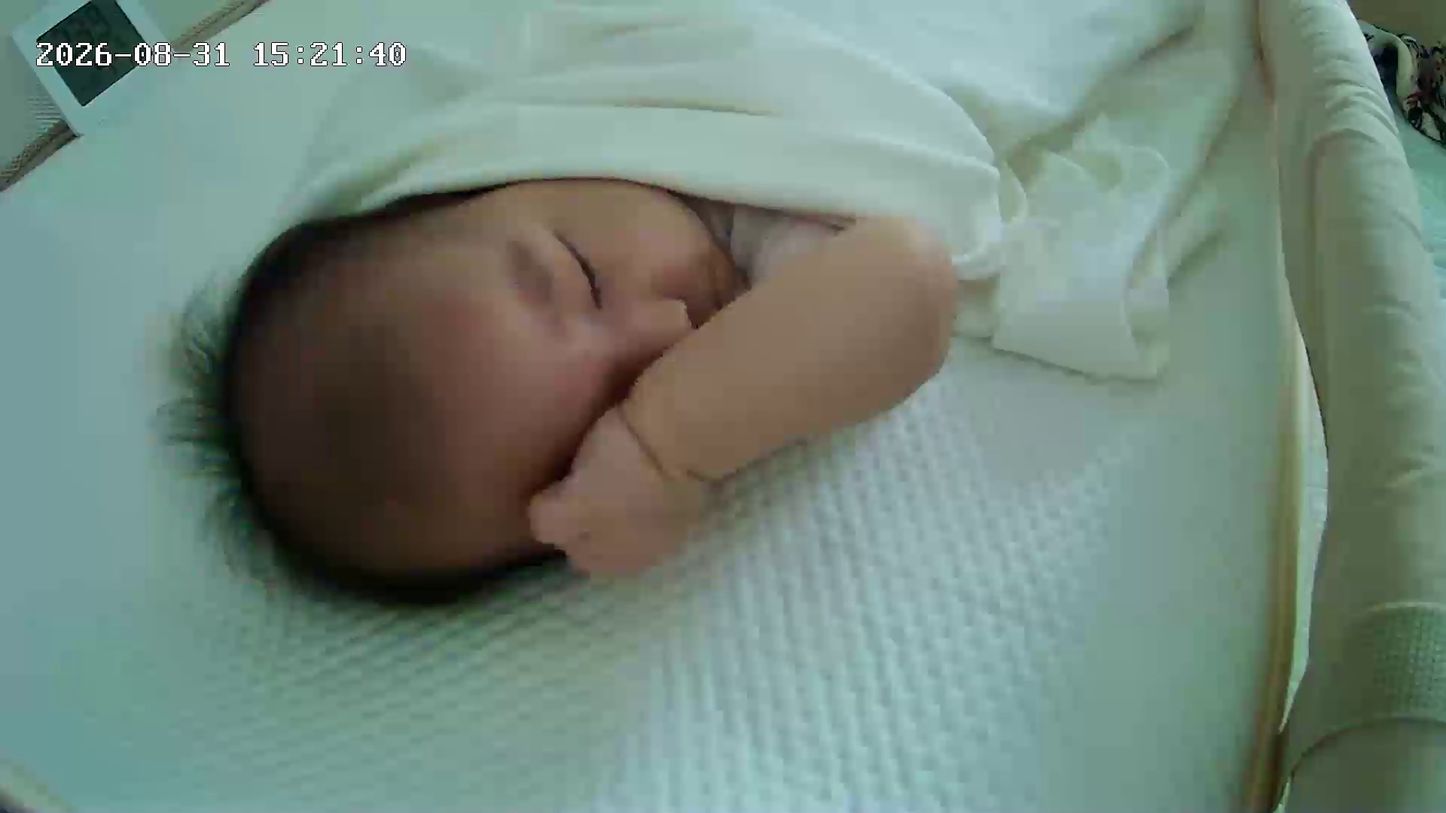baby: (181, 0, 1091, 619)
baby_face: (185, 160, 769, 614)
